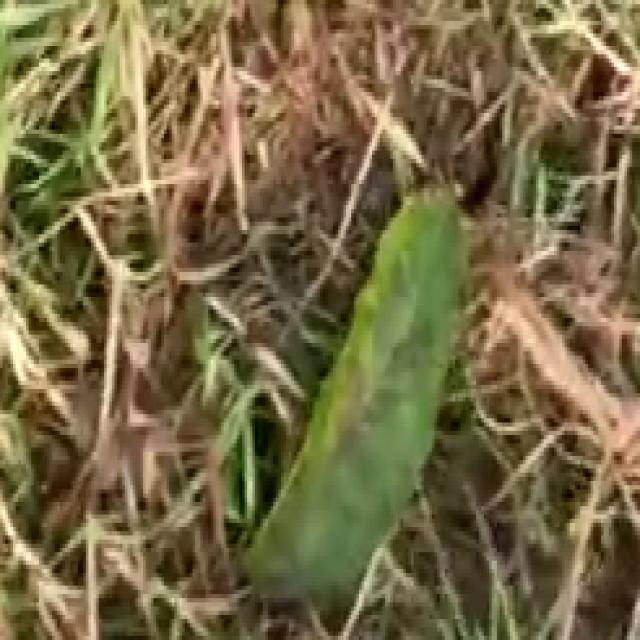organic waste: (236, 75, 478, 640)
